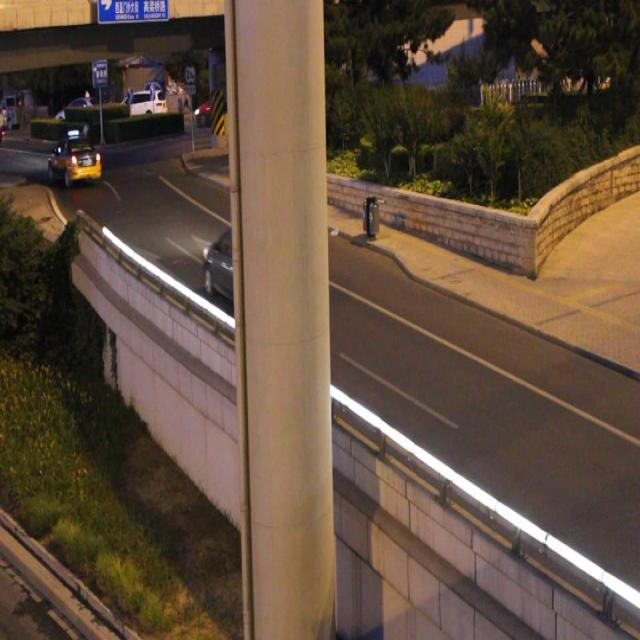car: (204, 228, 279, 302), (49, 140, 102, 182)
